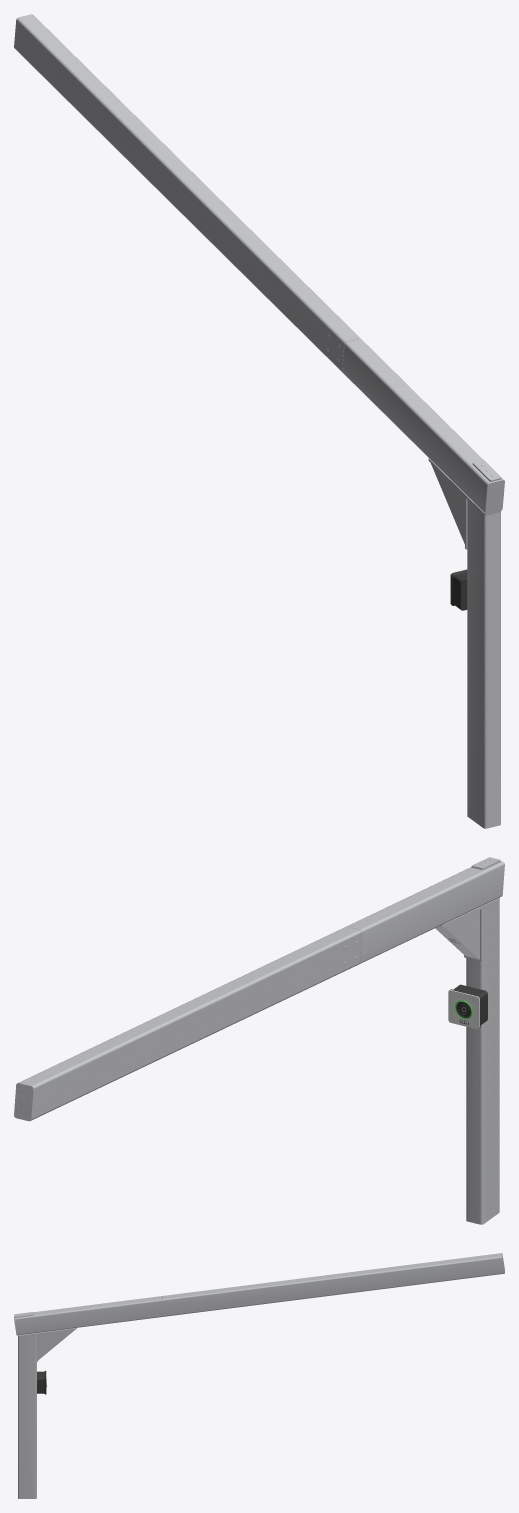
3 views of the same model, one above another, from view 1: azimuth 30°, elevation 25°; view 2: azimuth 150°, elevation 25°; view 3: azimuth 270°, elevation 25° (orthographic). The views are drawn at different scales.
Visible parts, largest first — view 1: RIgfht.003; view 2: RIgfht.003; view 3: RIgfht.003.
Boxes of the visible parts, box(x1,y1,x2,y2) form: RIgfht.003: box(14, 14, 504, 828); RIgfht.003: box(14, 857, 504, 1224); RIgfht.003: box(14, 1253, 504, 1498).
Size of the model in its own units: 0.2158 by 3.09 by 5.69.
Materials: 4 (4 with a texture image).
